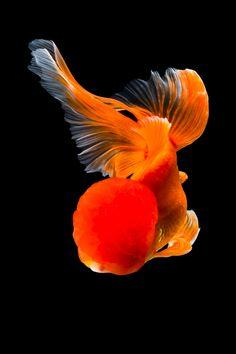goldfish: (46, 85, 214, 287)
